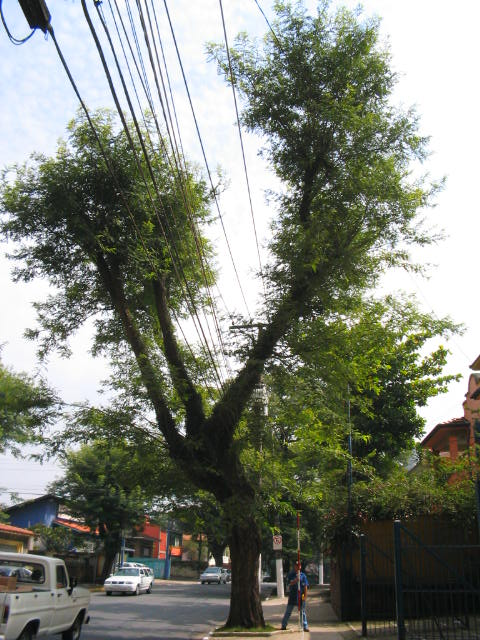crown: (4, 4, 450, 363), (52, 441, 174, 543)
stem: (189, 467, 276, 630), (97, 543, 123, 581)
stick: (291, 514, 307, 632)
tree: (1, 1, 451, 632), (51, 439, 175, 582)
